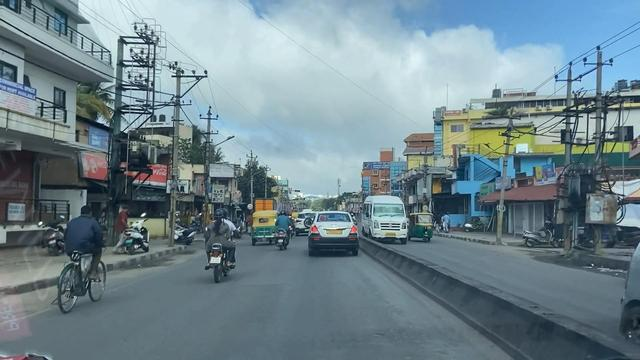LMV: (56, 207, 105, 303), (310, 214, 362, 256), (205, 210, 234, 275), (274, 209, 290, 252)
RoadDamages: (362, 315, 404, 354)
